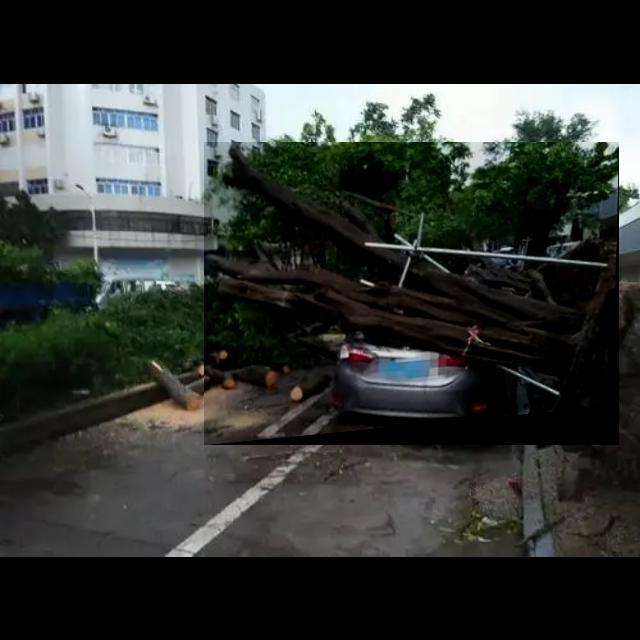fallen_tree: (204, 142, 620, 446)
